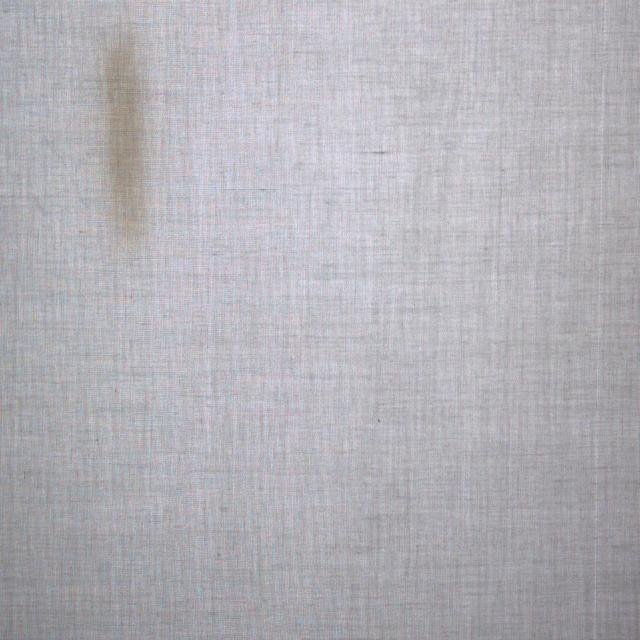dirty: (103, 53, 142, 226)
